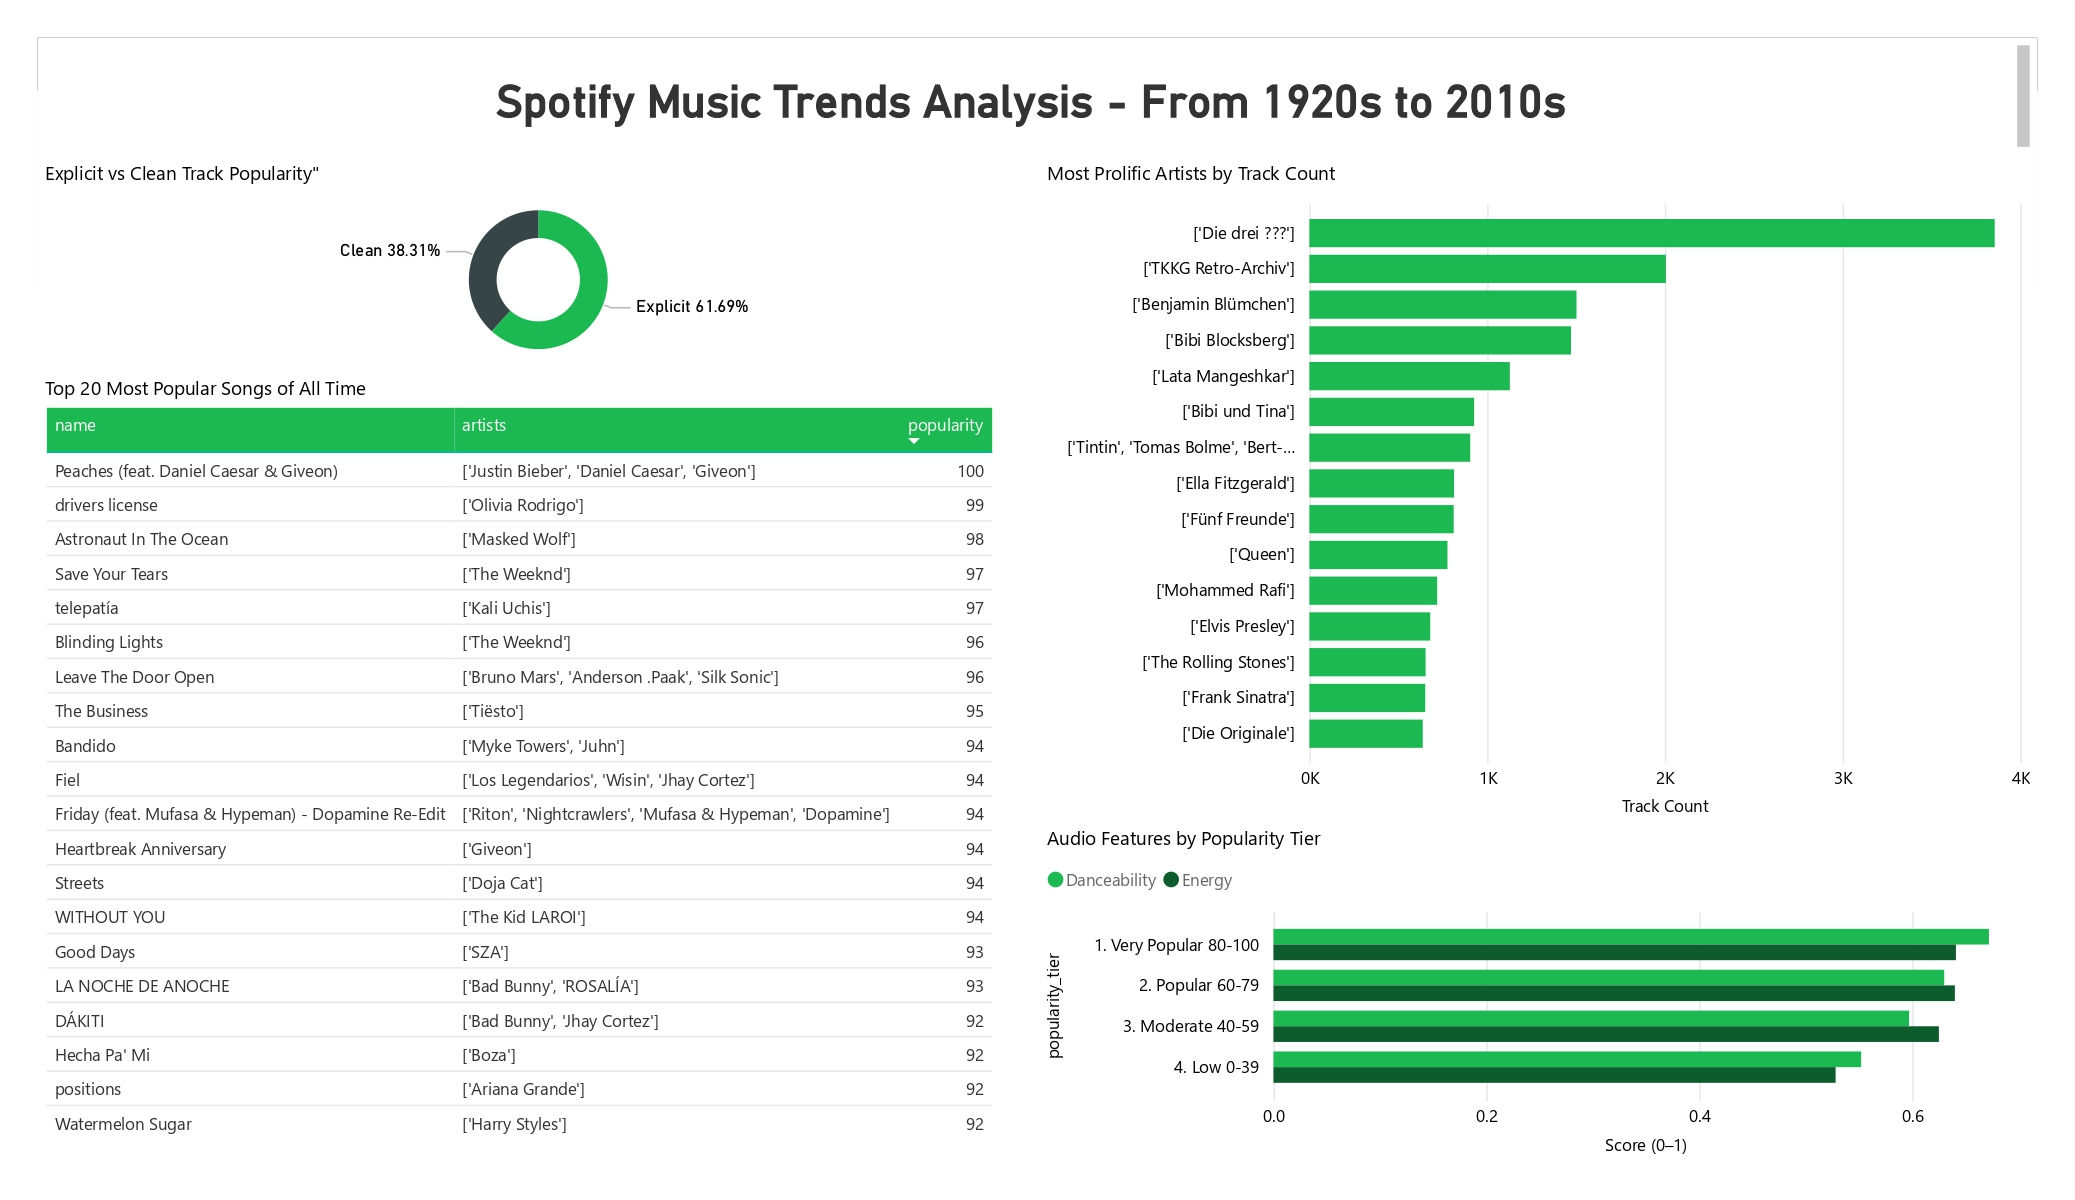

This screenshot's page, from the dashboard's own definition file:
{"tool":"powerbi","page":{"name":"Artists & Popularity","canvas":[1280,720],"ordinal":1},"visuals":[{"type":"clusteredBarChart","title":"Most Prolific Artists by Track Count","fields":{"Category":["results_top_artists.artists"],"Y":["Avg(results_top_artists.total_tracks)"]},"box":[640.8,77.6,638.8,426.5],"z":0},{"type":"tableEx","title":"Top 20 Most Popular Songs of All Time","fields":{"Values":["results_top_songs.name","results_top_songs.artists","results_top_songs.popularity"]},"box":[0,216.3,640.8,504.1],"z":1000},{"type":"clusteredBarChart","title":"Audio Features by Popularity Tier","fields":{"Category":["results_popularity_features.popularity_tier"],"Y":["Avg(results_popularity_features.avg_danceability)","Avg(results_popularity_features.avg_energy)"]},"box":[640.8,504.1,638.8,216.3],"z":2000},{"type":"donutChart","title":"Explicit vs Clean Track Popularity\"","fields":{"Category":["results_explicit_vs_clean.content_type"],"Y":["Avg(results_explicit_vs_clean.avg_popularity)"]},"box":[0,77.6,640.8,138.8],"z":3000},{"type":"textbox","box":[0,0,1279.6,77.6],"z":4000}]}

Visuals, with their boxes on the page's 1280x720 design canvas (x1, y1, x2, y2). These are canvas units, not pixel positions in the 2075x1200 screenshot, which may show the page scaled, cropped or inside an application window:
"Most Prolific Artists by Track Count" clusteredBarChart: {"x1": 641, "y1": 78, "x2": 1280, "y2": 504}
"Top 20 Most Popular Songs of All Time" tableEx: {"x1": 0, "y1": 216, "x2": 641, "y2": 720}
"Audio Features by Popularity Tier" clusteredBarChart: {"x1": 641, "y1": 504, "x2": 1280, "y2": 720}
"Explicit vs Clean Track Popularity"" donutChart: {"x1": 0, "y1": 78, "x2": 641, "y2": 216}
textbox: {"x1": 0, "y1": 0, "x2": 1280, "y2": 78}
